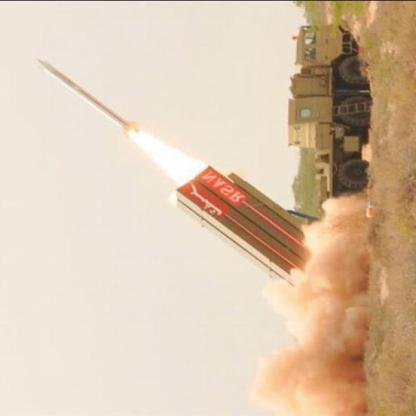MIL_TBM: (29, 51, 143, 137)
